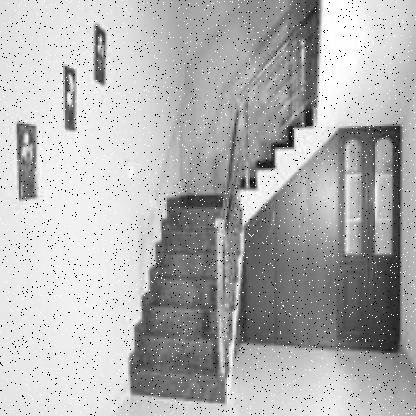stair_up: (127, 255, 227, 386)
